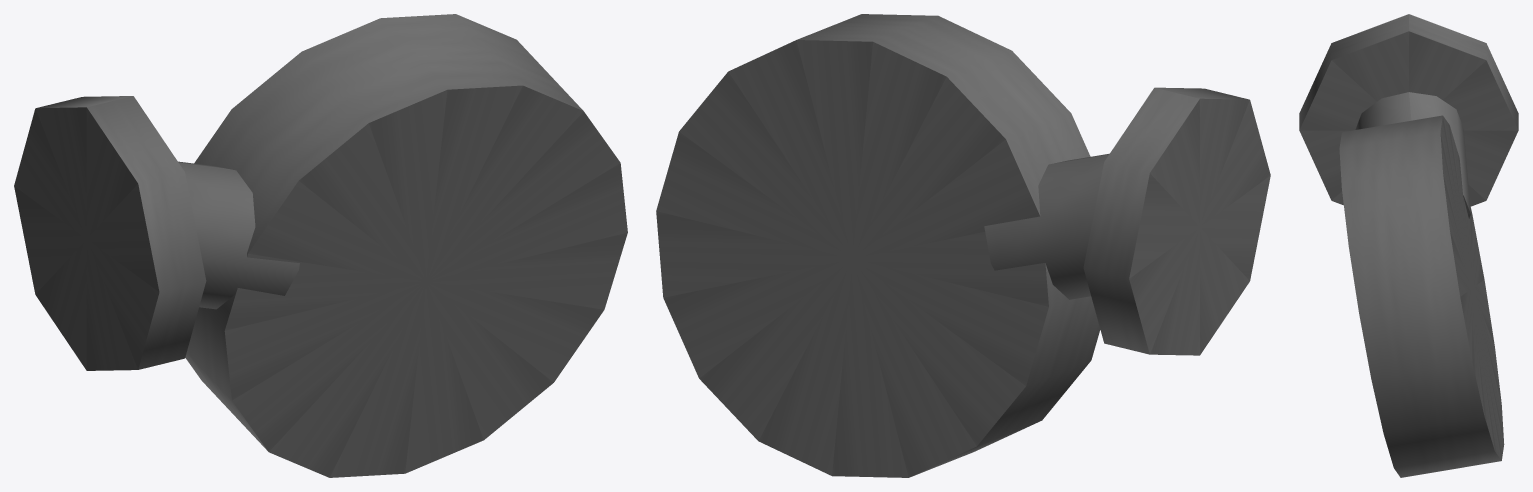
Rendered from mastarmcurve_4x1_c3_west.obj.
The picture shows the model from 3 angles, left to right: view 1: azimuth 30°, elevation 25°; view 2: azimuth 150°, elevation 25°; view 3: azimuth 270°, elevation 25°; orthographic projection. The views are drawn at different scales.
Parts seen in each view (by area): view 1: mastarm_4x1_c3_west; view 2: mastarm_4x1_c3_west; view 3: mastarm_4x1_c3_west.
Boxes of the visible parts, x1,y1,x2,y2 form: mastarm_4x1_c3_west: [14, 14, 627, 477]; mastarm_4x1_c3_west: [656, 14, 1270, 477]; mastarm_4x1_c3_west: [1299, 14, 1518, 477].
Size of the model in its own units: 0.8195 by 0.6681 by 0.4.
